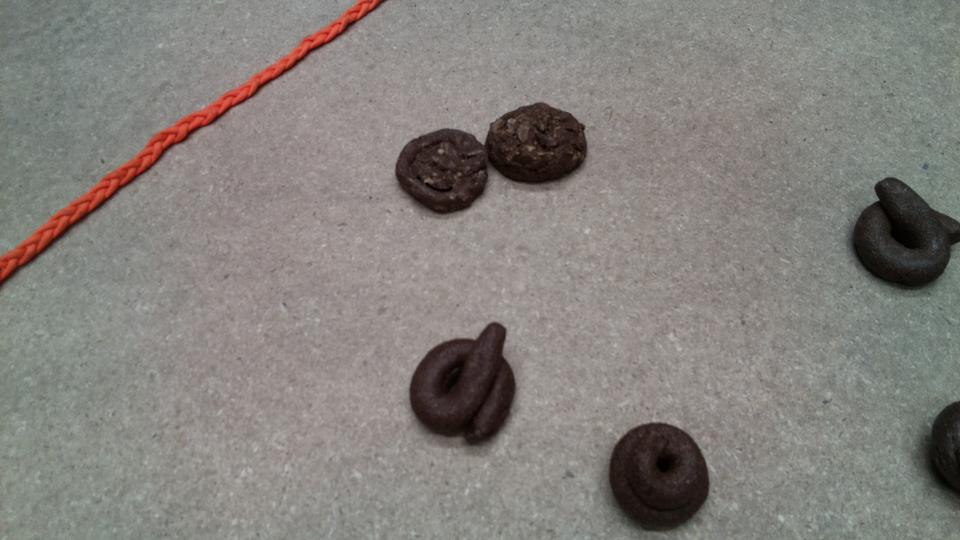poop: (404, 319, 521, 450), (848, 172, 960, 295), (606, 419, 713, 535), (391, 122, 490, 217), (487, 98, 590, 188), (922, 395, 960, 498)
rope: (4, 1, 370, 274)
